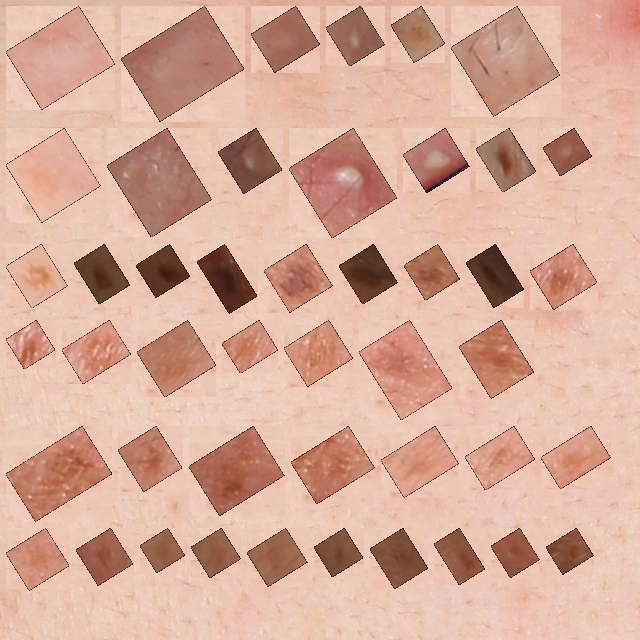hypertrophic_scar: (132, 17, 233, 110), (462, 17, 549, 105), (118, 139, 201, 226), (17, 17, 104, 98), (262, 17, 309, 61)
melasma: (17, 437, 101, 510), (370, 331, 441, 409), (17, 139, 90, 211), (200, 437, 273, 504), (302, 437, 364, 493), (148, 331, 205, 386), (470, 331, 523, 387), (392, 437, 448, 486), (295, 331, 342, 375), (476, 437, 524, 479), (73, 331, 120, 373), (552, 437, 600, 478), (129, 437, 171, 480), (17, 255, 57, 297), (17, 539, 58, 579), (381, 539, 417, 578), (258, 539, 296, 575), (87, 539, 122, 574), (402, 17, 434, 51), (233, 331, 267, 362), (445, 539, 474, 574), (202, 539, 230, 567), (17, 331, 44, 358), (325, 539, 352, 566), (502, 539, 528, 566), (557, 539, 582, 563), (151, 539, 174, 562)
nevus: (275, 255, 321, 301), (208, 255, 246, 302), (487, 139, 525, 181), (477, 255, 513, 296), (350, 255, 387, 293), (85, 255, 119, 293), (415, 255, 449, 289), (147, 255, 179, 286)
pustule: (300, 139, 386, 227), (414, 139, 458, 182), (229, 139, 271, 182), (337, 17, 374, 55), (554, 139, 581, 165)
